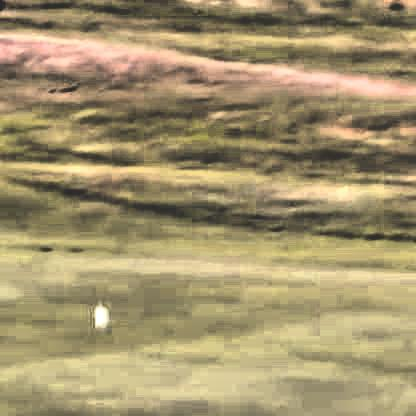golfball: (91, 301, 107, 323)
